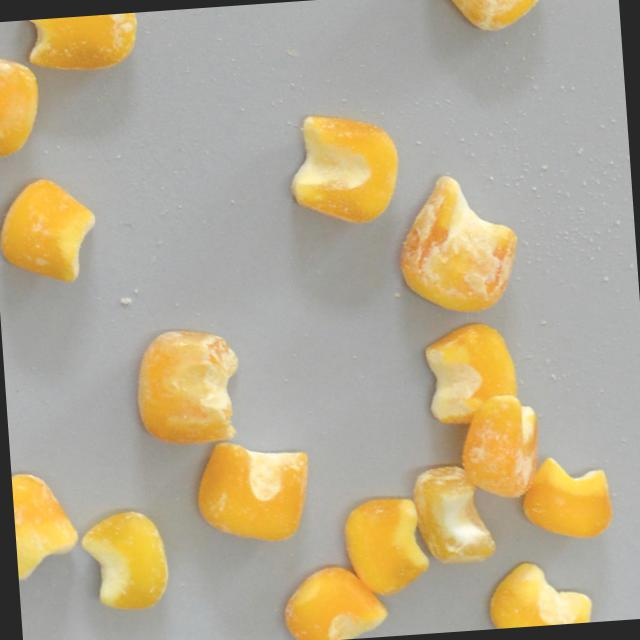no_canjicado: (78, 507, 169, 612)
pelicula: (393, 170, 522, 318), (286, 109, 403, 228), (192, 435, 313, 547), (132, 323, 243, 445), (0, 175, 99, 287), (422, 319, 518, 429), (408, 459, 497, 568), (458, 392, 542, 500), (279, 563, 392, 640), (518, 454, 614, 543), (10, 470, 82, 583), (13, 12, 138, 77), (485, 557, 593, 629), (0, 46, 42, 160), (427, 0, 549, 37)
